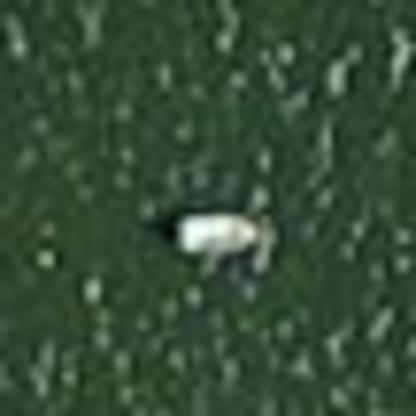ship: (156, 199, 270, 266)
